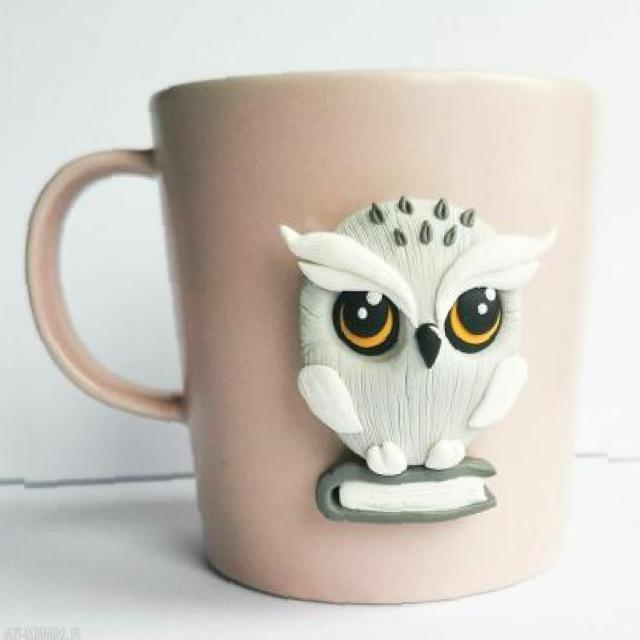cup: (17, 62, 611, 616)
